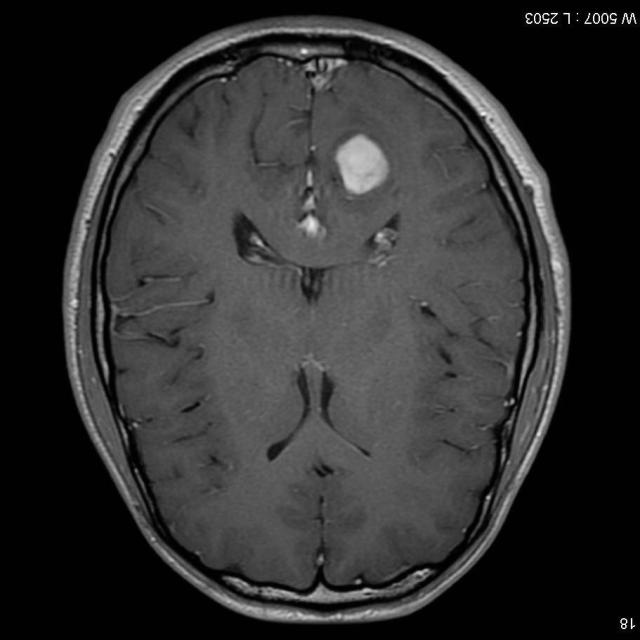Tumor-Cell: (322, 118, 402, 213)
